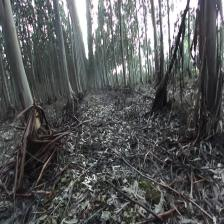trunk: (0, 0, 42, 134), (193, 0, 222, 126), (54, 12, 72, 102), (119, 22, 127, 86)
